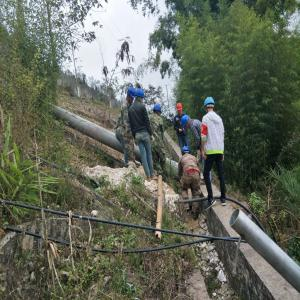blue: (204, 97, 216, 114), (181, 116, 192, 130), (127, 87, 136, 104), (136, 89, 146, 103), (153, 105, 163, 117), (183, 146, 191, 156)
red: (177, 103, 184, 115)
